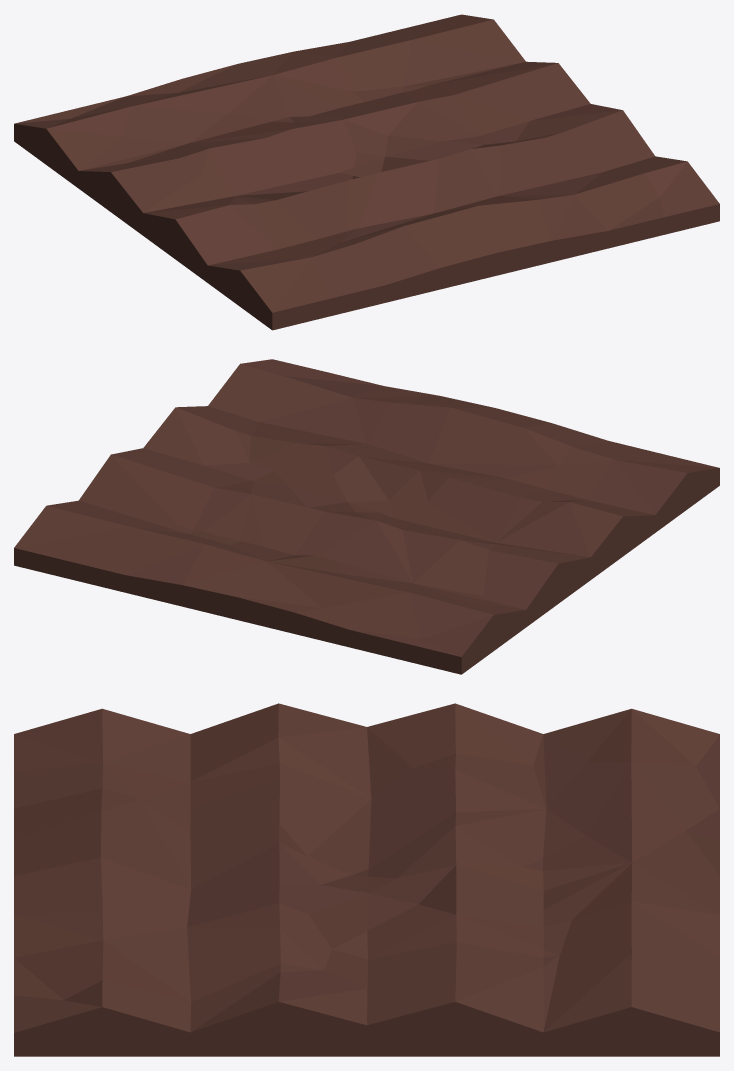
Rendered from Mud_1.FBX.
The picture shows the model from 3 angles, top to bottom: view 1: azimuth 30°, elevation 25°; view 2: azimuth 150°, elevation 25°; view 3: azimuth 270°, elevation 25°; orthographic projection. The views are drawn at different scales.
Parts seen in each view (by area): view 1: Mud_1; view 2: Mud_1; view 3: Mud_1.
Boxes of the visible parts, bbox=[...] form: Mud_1: bbox=[14, 14, 719, 330]; Mud_1: bbox=[14, 359, 719, 674]; Mud_1: bbox=[14, 703, 719, 1056].
Size of the model in its own units: 1.5 by 0.1389 by 1.5.
1 material, 1 textured.
